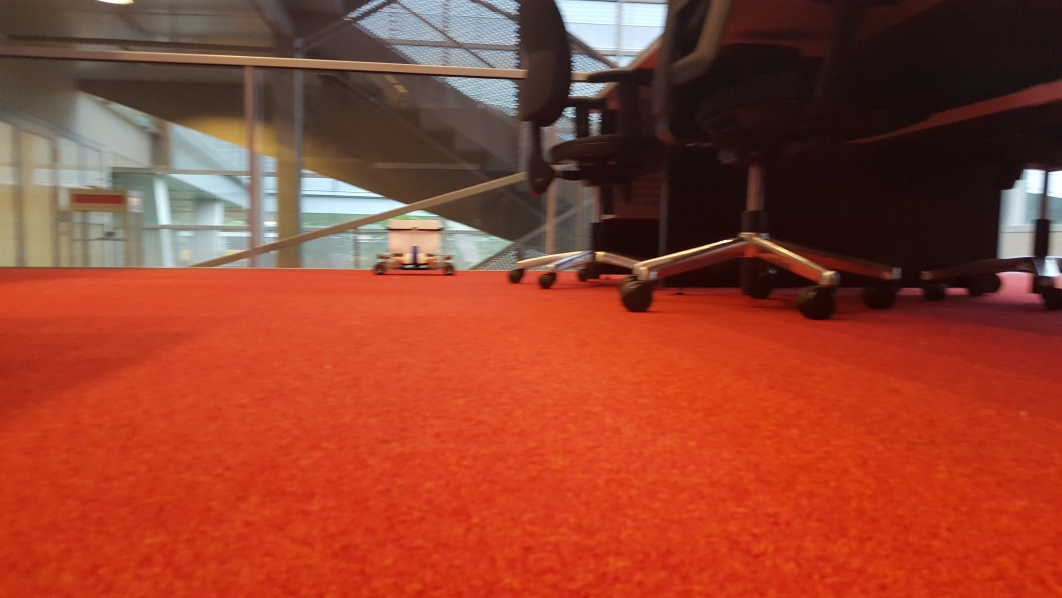car: (372, 215, 455, 276)
